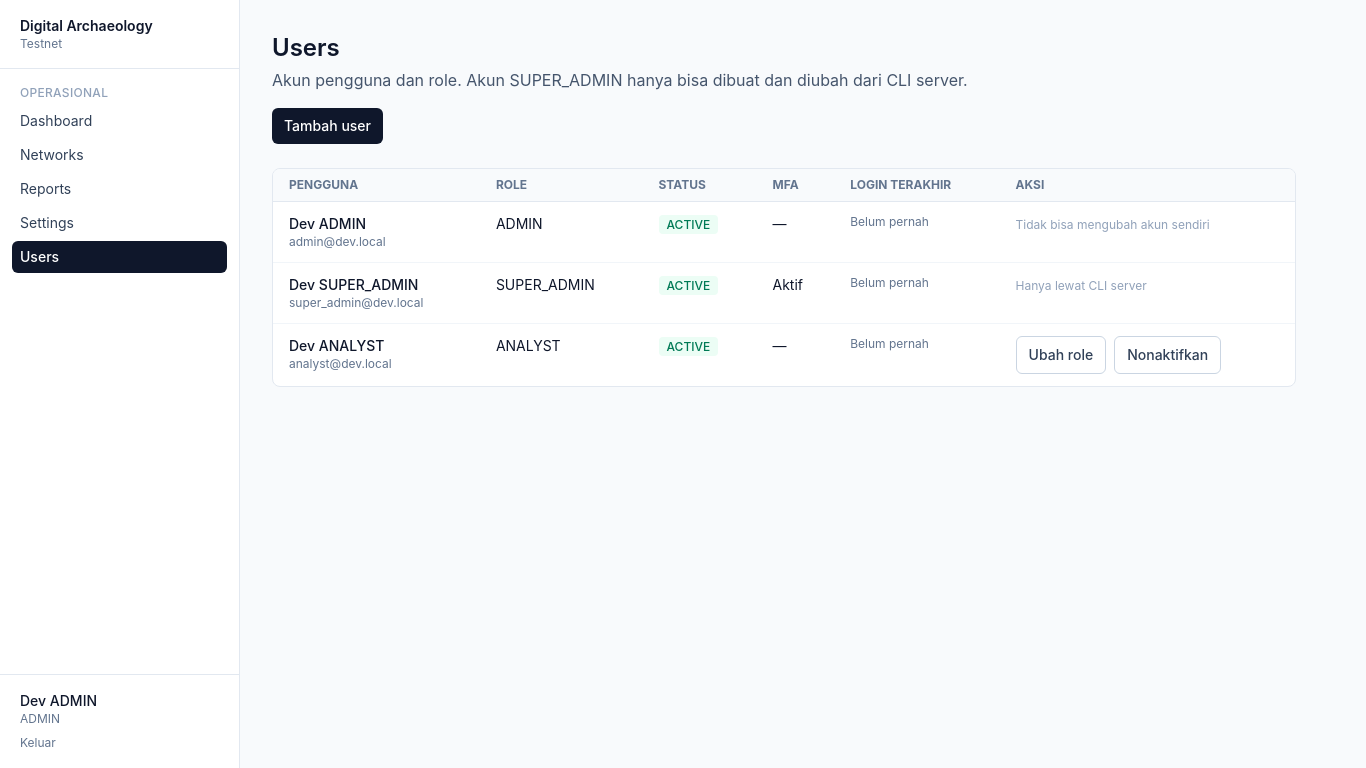
Users page › lists users and never offers SUPER_ADMIN as a grantable role
expect the text "super_admin@dev.local" is shown: met, box [289,295,424,310]
expect the text "Hanya lewat CLI server" is shown: met, box [1016,278,1147,293]
What coordinates should you click on to do the following:
click the button "Tambah user"
I would click on:
 (328, 126)
Its box is [272,108,383,144].
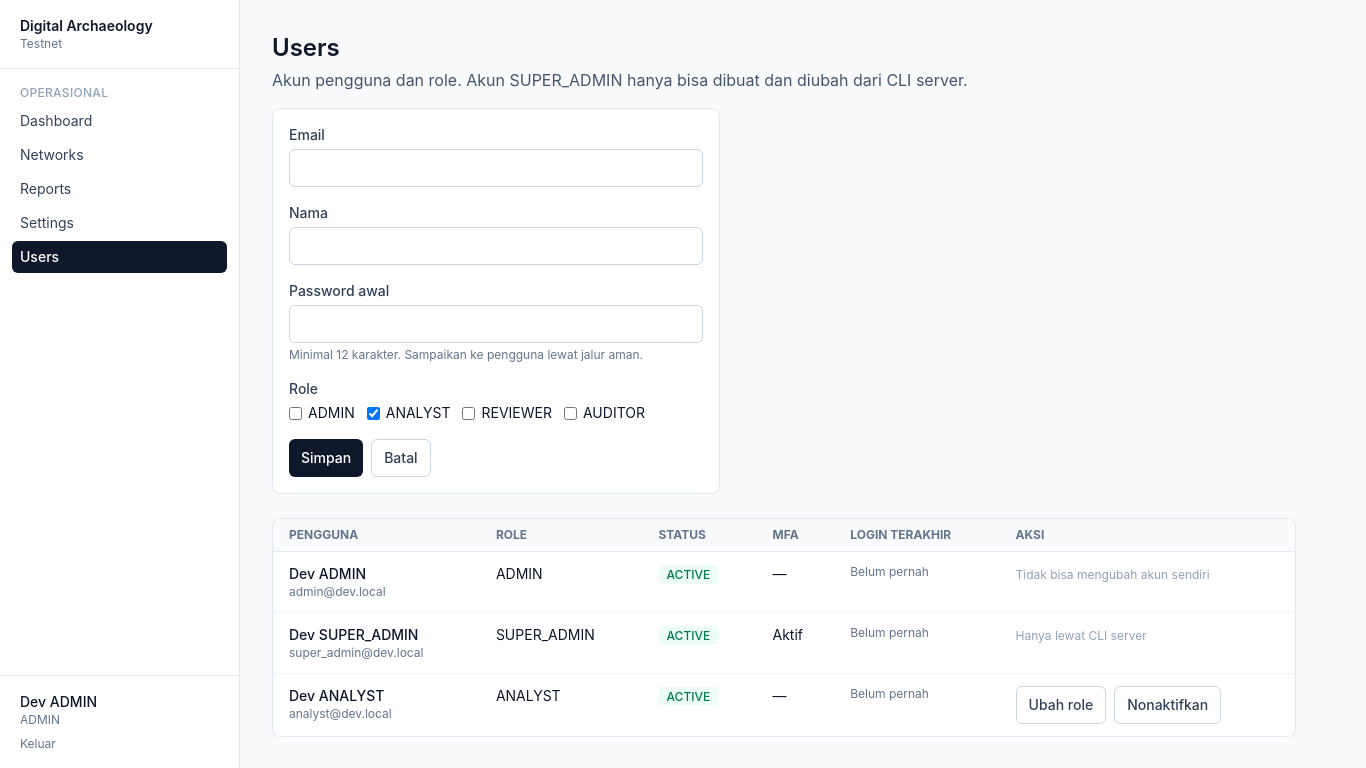
expect the checkbox labelled "ANALYST" is shown: met, box [367,406,380,420]
